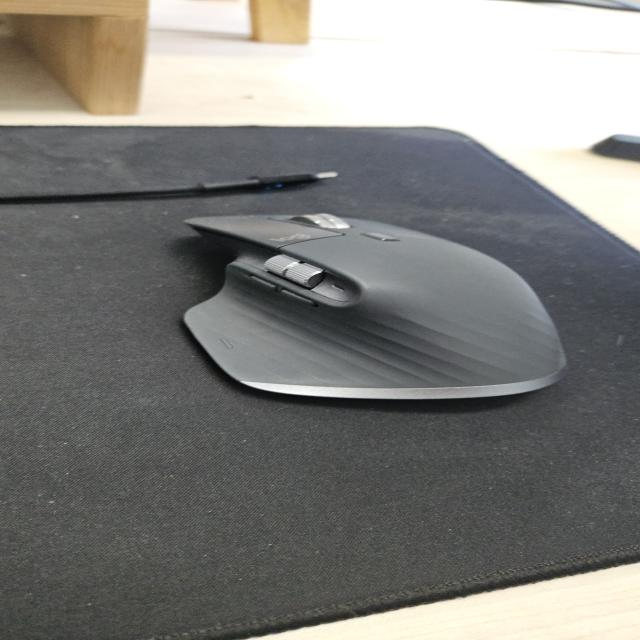Mouse: (178, 210, 570, 402)
